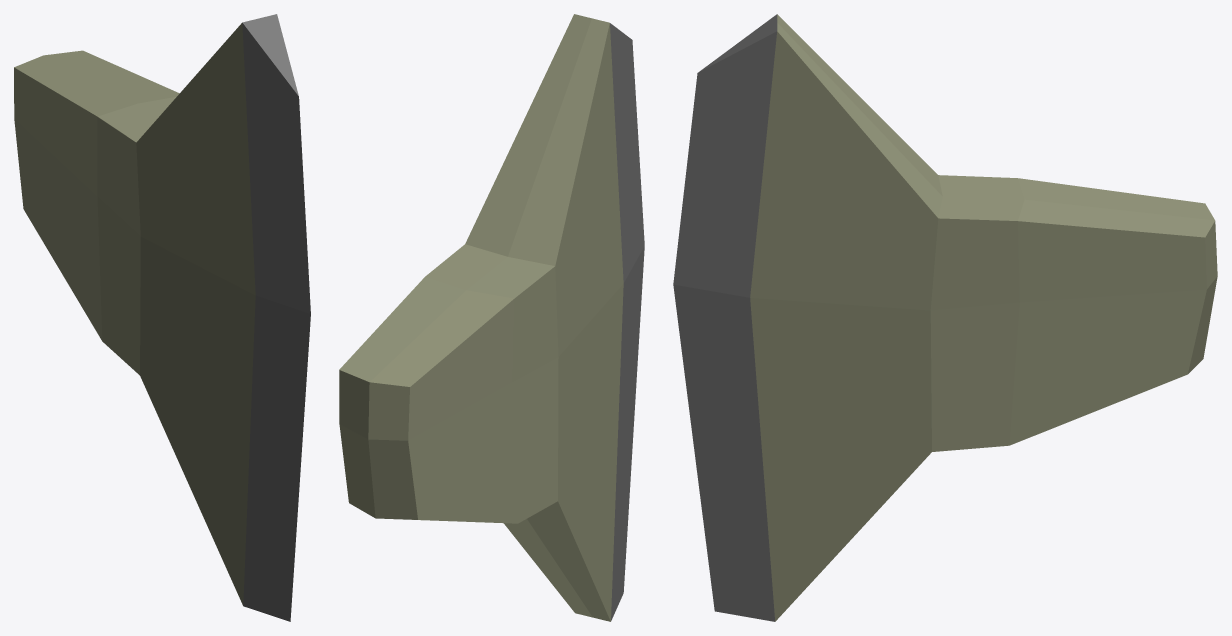
File: Axe Head.001.glb
3 views of the same model, side by side, from view 1: azimuth 30°, elevation 25°; view 2: azimuth 150°, elevation 25°; view 3: azimuth 270°, elevation 25° (orthographic). The views are drawn at different scales.
Visible parts, largest first — view 1: Axe Head.001; view 2: Axe Head.001; view 3: Axe Head.001.
Boxes of the visible parts, x1,y1,x2,y2 form: Axe Head.001: (14,14,310,621); Axe Head.001: (339,14,644,621); Axe Head.001: (673,14,1217,621).
Size of the model in its own units: 0.0753 by 0.4786 by 0.3997.
